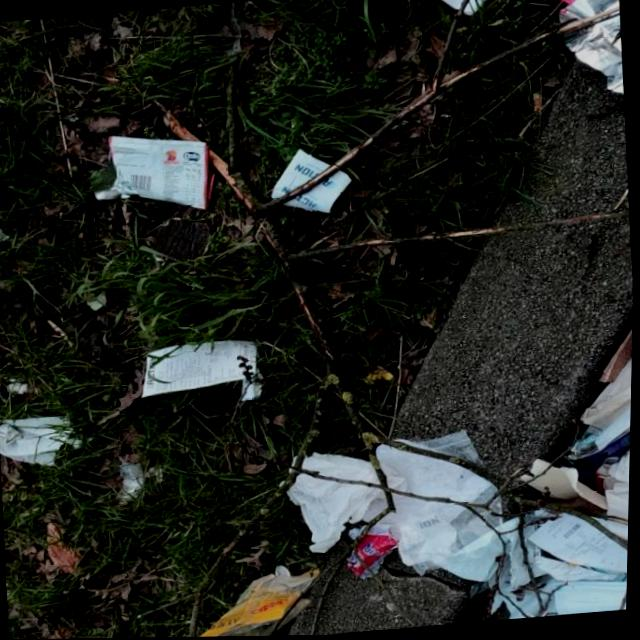Mask: (564, 388, 633, 462), (520, 575, 630, 620)
Paper: (372, 429, 527, 593), (282, 444, 415, 557), (449, 513, 567, 625), (136, 337, 268, 412), (524, 507, 631, 590), (264, 143, 356, 220), (571, 350, 634, 433), (0, 411, 87, 471), (601, 416, 633, 491), (602, 479, 632, 554), (423, 0, 511, 21), (5, 377, 30, 397)
Plastic: (85, 125, 220, 222), (182, 565, 320, 638), (550, 0, 626, 104), (343, 520, 404, 584), (112, 460, 148, 504), (0, 416, 27, 448)
